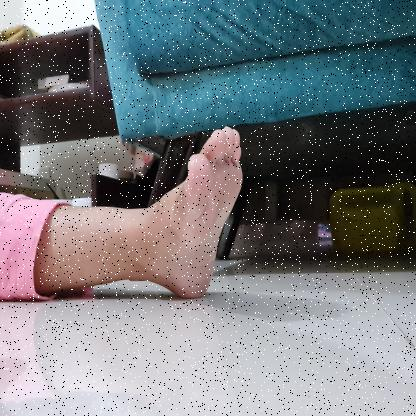leg: (0, 110, 253, 313)
